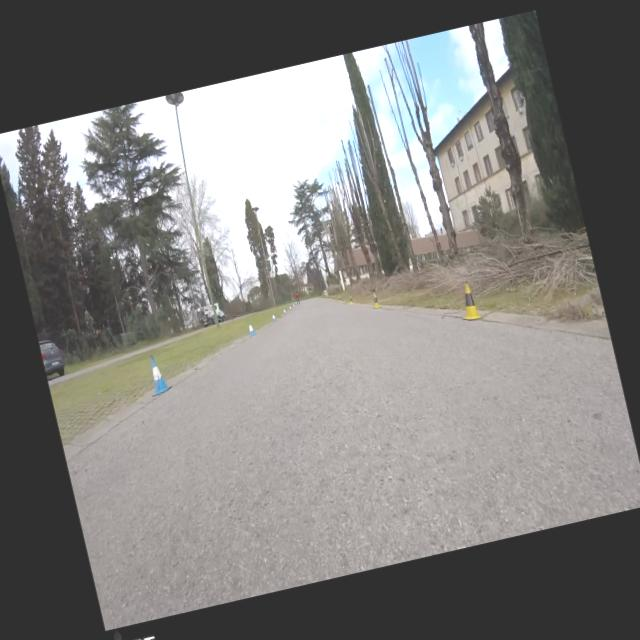blue_cone: (142, 352, 174, 396), (247, 321, 256, 336), (272, 314, 276, 321), (283, 308, 286, 313)
yellow_cone: (454, 279, 483, 322), (369, 292, 382, 308), (347, 294, 353, 304), (338, 296, 342, 302), (332, 296, 334, 300)
